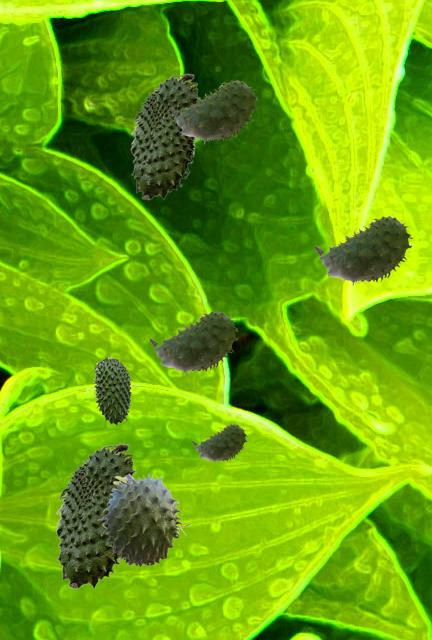guyabano: (55, 443, 135, 588), (97, 472, 190, 566), (130, 73, 199, 199), (314, 216, 411, 285), (149, 311, 237, 374), (169, 80, 257, 143), (93, 356, 131, 424), (192, 424, 246, 462)
